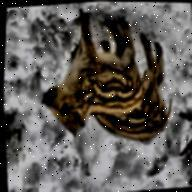boar: (32, 1, 179, 154)
